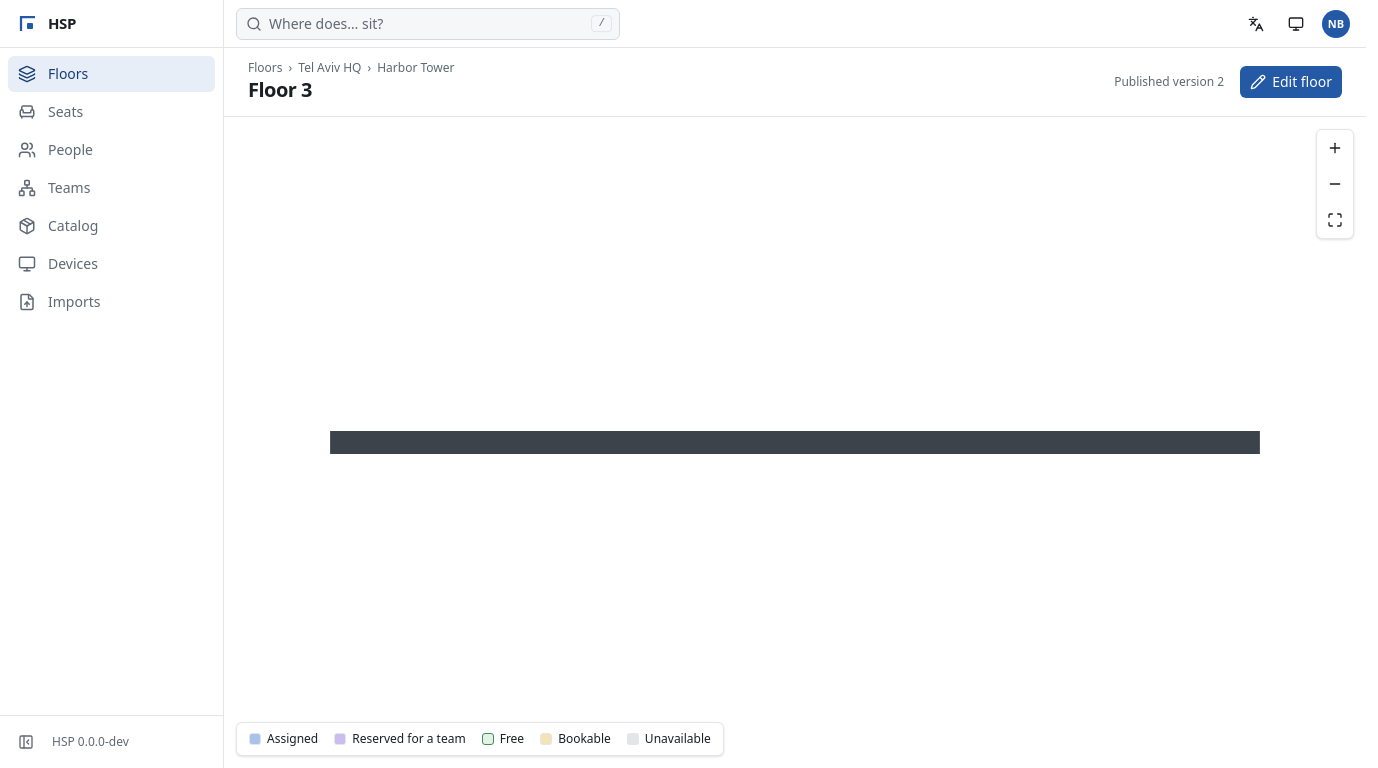
Test: Edit floor on the floor page (docs/0089) › opens the editor
This screenshot has width=1378, height=768.
Click the link "Edit floor".
click(1291, 82)  # box [1240,66,1342,98]
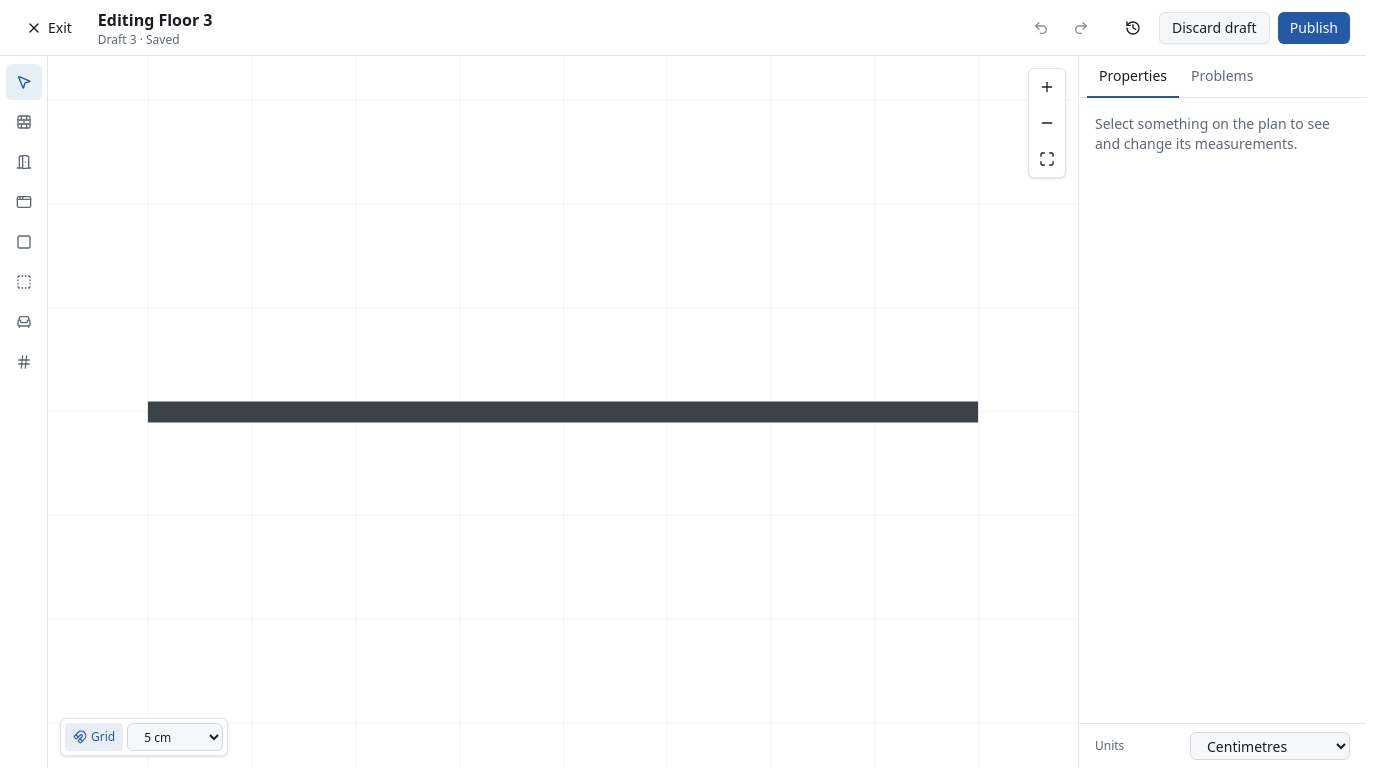
Expected: the heading "Editing Floor 3" is shown, [98,8,212,30]
